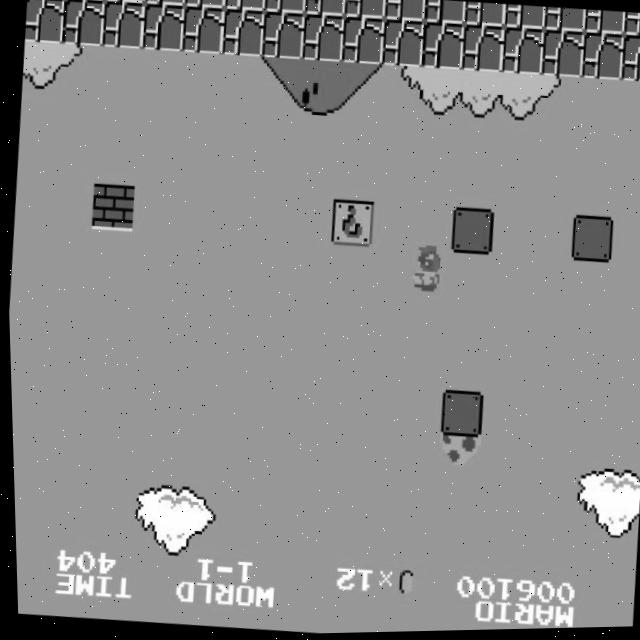1- brick_block: (88, 183, 134, 233)
11- little_mario: (402, 244, 451, 298)
12- mushroom: (435, 433, 482, 472)
13- mystery_block: (328, 200, 374, 249)
17- undestructible_block: (299, 14, 346, 64), (259, 11, 306, 61), (539, 31, 585, 81), (499, 28, 545, 78), (459, 25, 505, 75), (419, 22, 465, 72), (340, 17, 386, 67), (220, 8, 266, 58), (140, 3, 186, 53), (100, 0, 146, 50), (579, 34, 625, 83), (379, 20, 425, 69), (180, 6, 226, 55), (60, 0, 106, 47), (23, 0, 65, 45), (542, 8, 586, 35), (502, 5, 546, 32), (583, 11, 626, 38), (423, 0, 466, 27), (463, 3, 506, 29), (383, 0, 426, 24), (619, 37, 640, 86), (343, 0, 387, 21), (303, 0, 347, 18), (263, 0, 306, 15), (223, 0, 266, 12), (623, 14, 640, 40), (183, 0, 226, 10), (143, 0, 186, 8), (103, 0, 146, 4)
3- empty_block: (567, 216, 613, 266), (448, 208, 494, 258), (436, 391, 482, 440)
